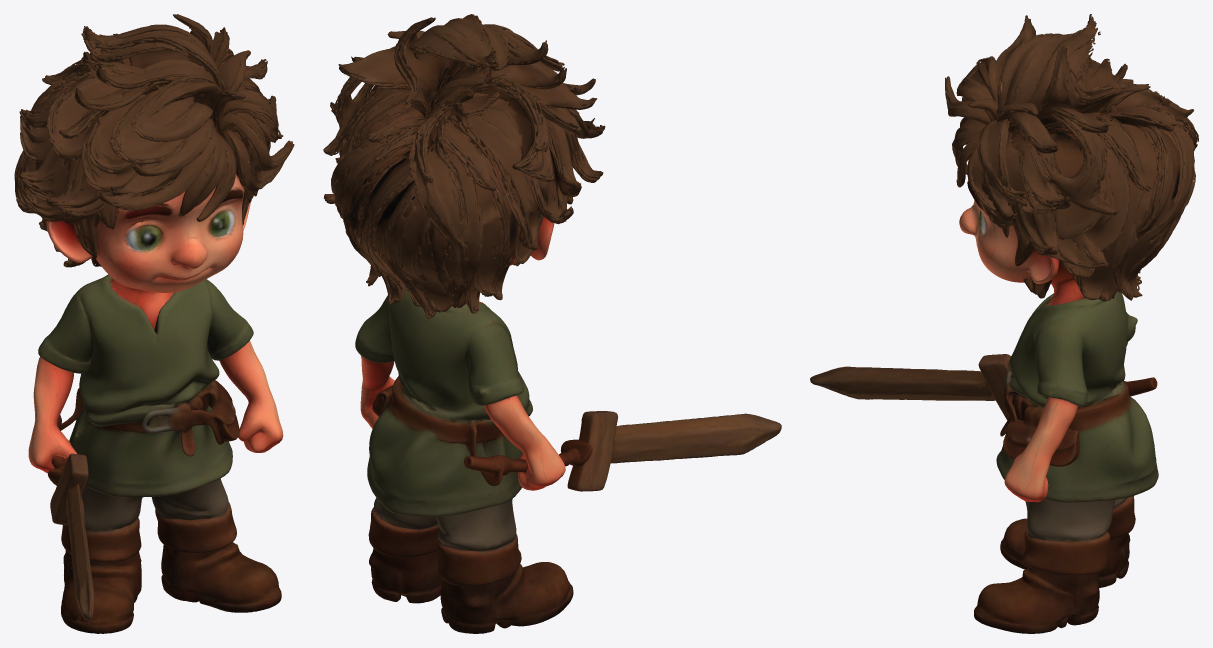
File: obj083_chibi_swordsman.glb
3 views of the same model, side by side, from view 1: azimuth 30°, elevation 25°; view 2: azimuth 150°, elevation 25°; view 3: azimuth 270°, elevation 25° (orthographic). The views are drawn at different scales.
Bounding box in the file's own units: 0.3181 × 0.5485 × 0.347.
1 material, 1 textured.
